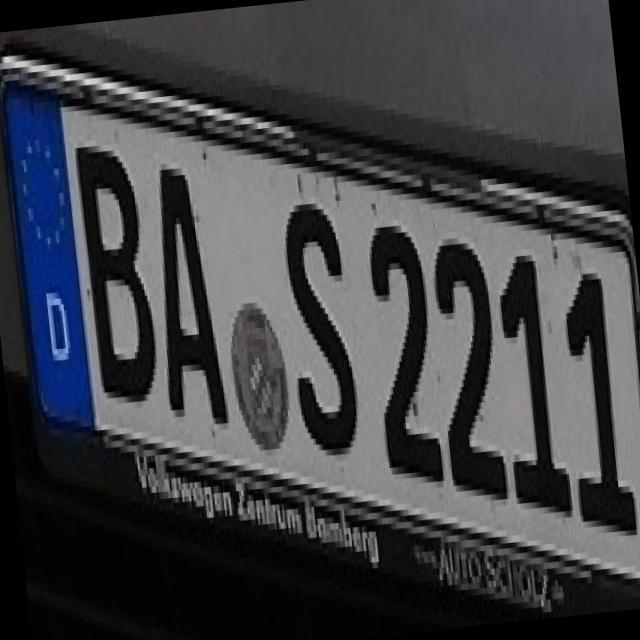1: (539, 251, 640, 541), (479, 228, 574, 522)
2: (350, 198, 450, 487), (416, 216, 514, 505)
A: (131, 140, 238, 430)
B: (58, 117, 163, 412)
S: (260, 176, 372, 460)
